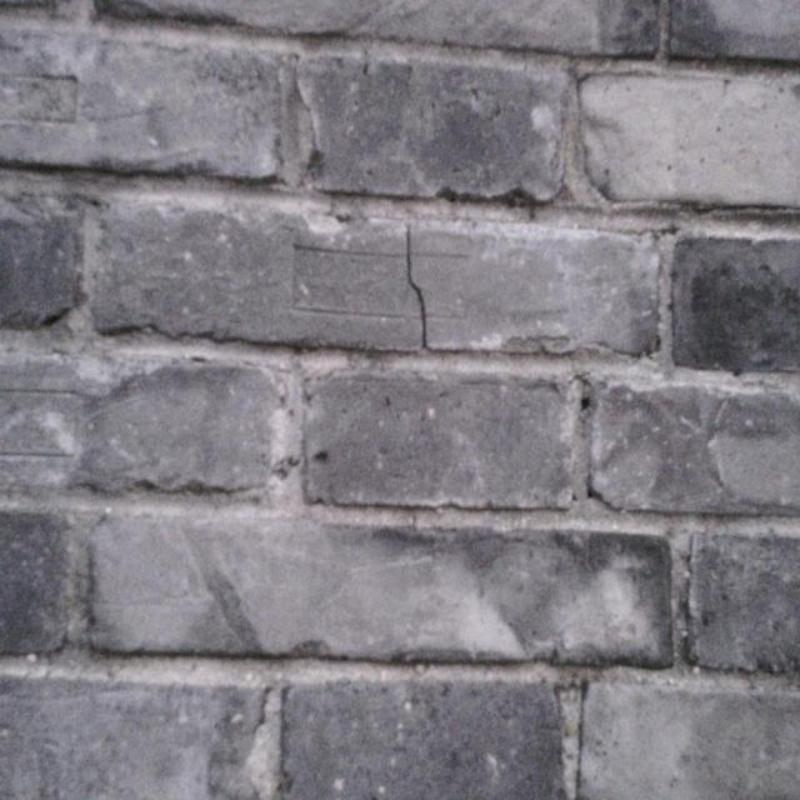pothole: (406, 224, 428, 346)
